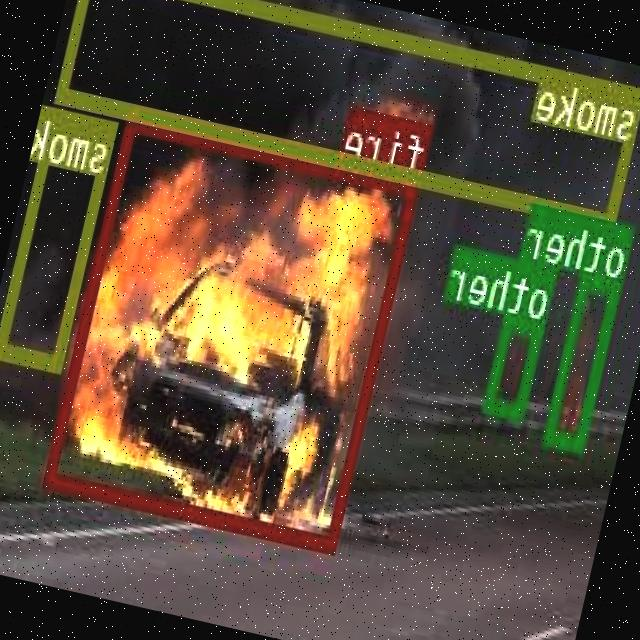fire: (46, 112, 423, 550)
smoke: (57, 0, 640, 226), (0, 106, 121, 369)
